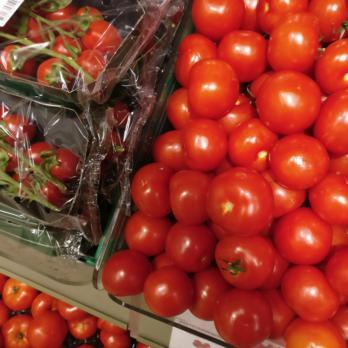Tomato: (182, 0, 348, 348)
